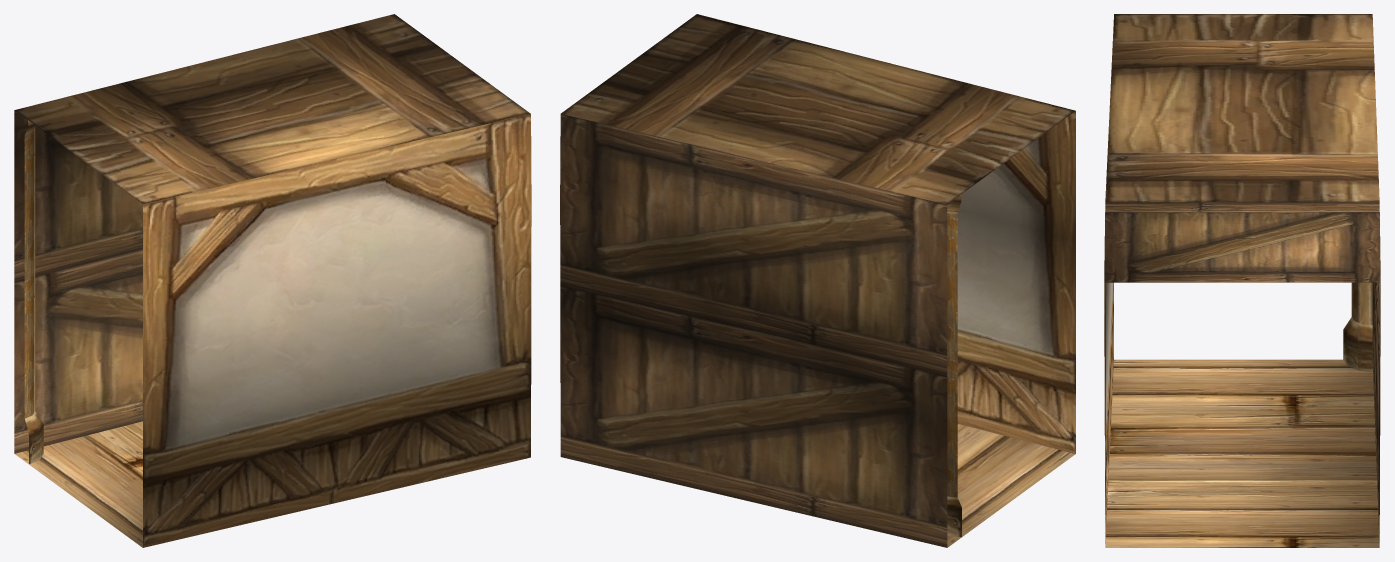
The model's file is stormwind_213.fbx.
3 views of the same model, side by side, from view 1: azimuth 30°, elevation 25°; view 2: azimuth 150°, elevation 25°; view 3: azimuth 270°, elevation 25° (orthographic).
Parts seen in each view (by area): view 1: stormwind_213_48, stormwind_213_55, stormwind_213_56, stormwind_213_51, stormwind_213_53; view 2: stormwind_213_56, stormwind_213_55, stormwind_213_48, stormwind_213_51, stormwind_213_53; view 3: stormwind_213_55, stormwind_213_51, stormwind_213_56, stormwind_213_53, stormwind_213_48.
Part boxes in pixels (x1,y1,x2,y2): stormwind_213_48: (143,114,531,547); stormwind_213_55: (14,14,530,203); stormwind_213_56: (14,110,142,453); stormwind_213_51: (15,421,142,547); stormwind_213_53: (24,120,43,464); stormwind_213_56: (560,114,947,547); stormwind_213_55: (561,14,1075,204); stormwind_213_48: (957,111,1075,453); stormwind_213_51: (947,424,1075,547); stormwind_213_53: (947,195,961,537); stormwind_213_55: (1105,14,1379,202); stormwind_213_51: (1105,359,1379,547); stormwind_213_56: (1104,202,1380,542); stormwind_213_53: (1343,282,1372,371); stormwind_213_48: (1104,282,1113,543).
Size of the model in its own units: 6.95 by 5.95 by 4.31.
